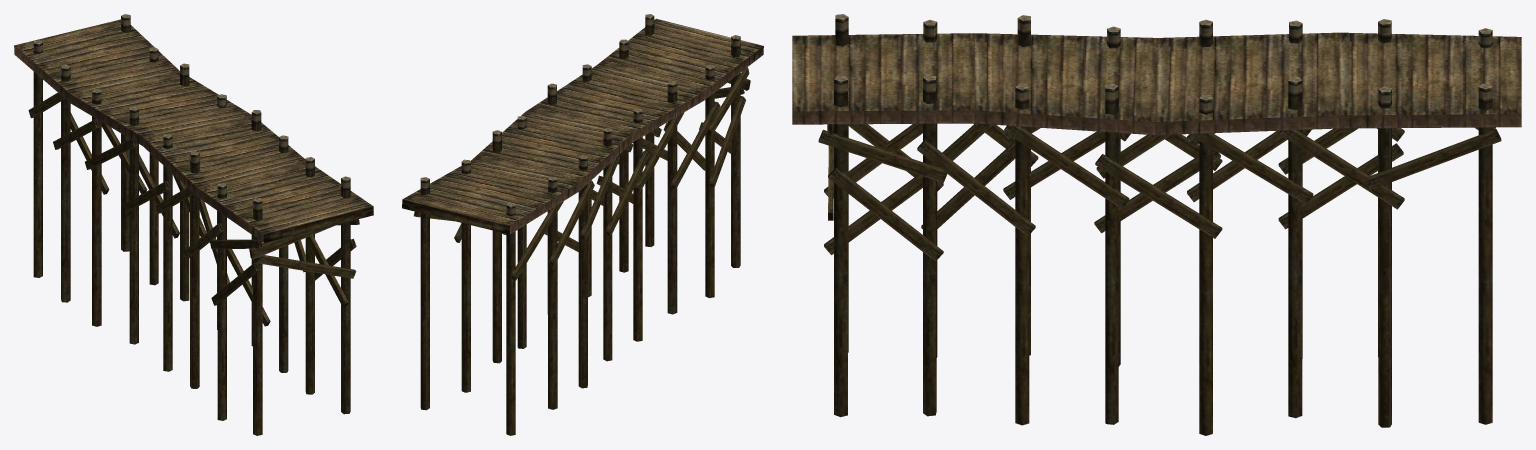
The model's file is b_general_obj_01_3.glb.
3 views of the same model, side by side, from view 1: azimuth 30°, elevation 25°; view 2: azimuth 150°, elevation 25°; view 3: azimuth 270°, elevation 25° (orthographic). The views are drawn at different scales.
Visible parts, largest first — view 1: B_general_obj_01_3; view 2: B_general_obj_01_3; view 3: B_general_obj_01_3.
Boxes of the visible parts, x1=… form: B_general_obj_01_3: x1=14, y1=14, x2=373, y2=435; B_general_obj_01_3: x1=402, y1=14, x2=763, y2=435; B_general_obj_01_3: x1=792, y1=14, x2=1521, y2=435.
Size of the model in its own units: 5.43 by 10.65 by 20.
1 material, 1 textured.
